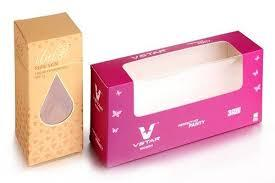Cardboard: (8, 7, 271, 177)
